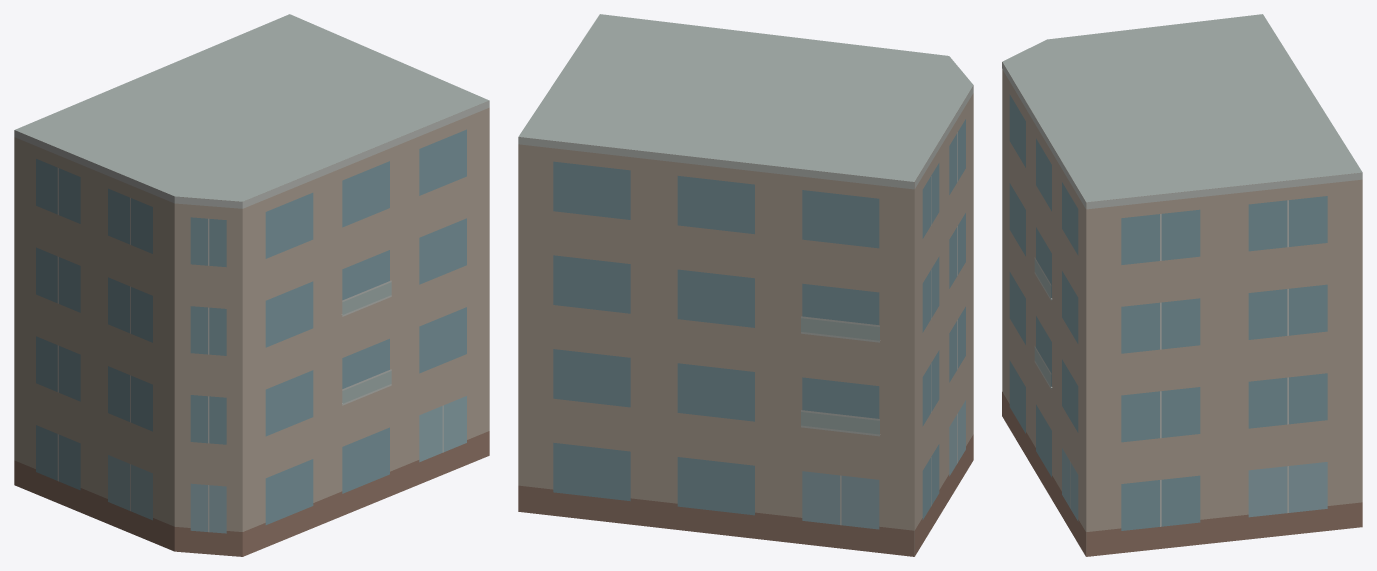
Rendered from survey-upis-33006324.glb.
3 renders of one model, left to right at view 1: azimuth 30°, elevation 25°; view 2: azimuth 150°, elevation 25°; view 3: azimuth 270°, elevation 25°, orthographic. The views are drawn at different scales.
Visible parts, largest first — view 1: survey-upis-33006324.tmp; view 2: survey-upis-33006324.tmp; view 3: survey-upis-33006324.tmp.
Boxes of the visible parts, x1,y1,x2,y2 form: survey-upis-33006324.tmp: [14, 14, 489, 556]; survey-upis-33006324.tmp: [518, 14, 973, 556]; survey-upis-33006324.tmp: [1002, 14, 1362, 556].
Size of the model in its own units: 13.91 by 12.2 by 11.26.
